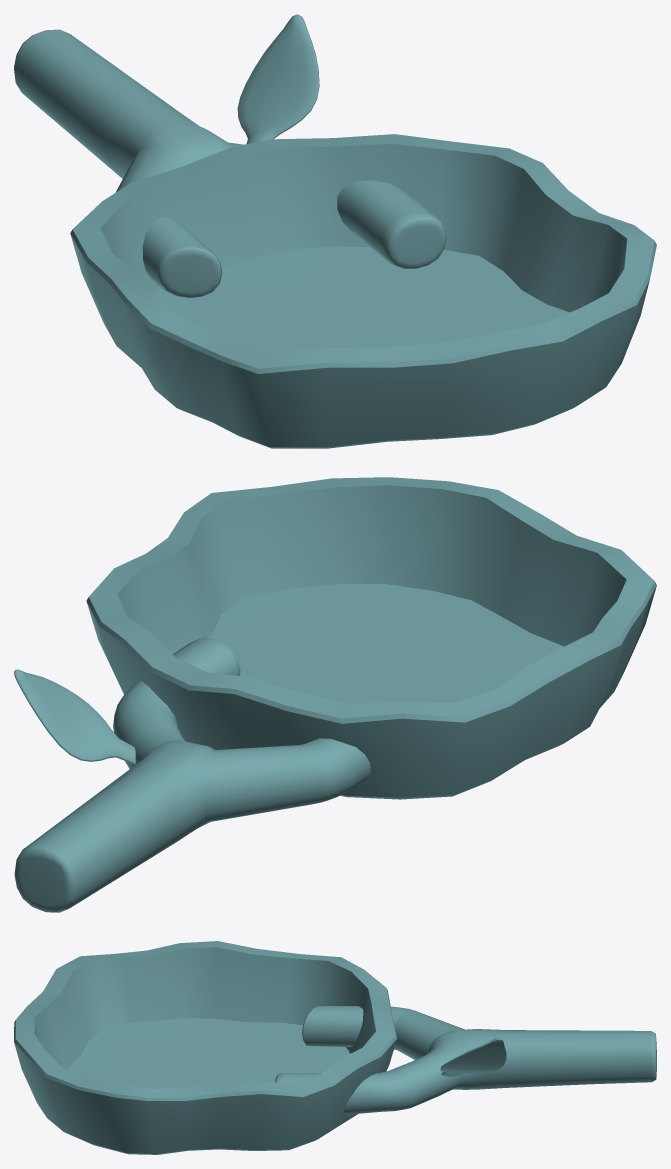
The model's file is SM_FRYING_PAN_ROCK.fbx.
3 renders of one model, top to bottom at view 1: azimuth 30°, elevation 25°; view 2: azimuth 150°, elevation 25°; view 3: azimuth 270°, elevation 25°, orthographic. The views are drawn at different scales.
Visible parts, largest first — view 1: SM_FRYING_PAN_ROCK; view 2: SM_FRYING_PAN_ROCK; view 3: SM_FRYING_PAN_ROCK.
Part boxes in pixels (box(x1,y1,x2,y2)): SM_FRYING_PAN_ROCK: box(14, 14, 656, 448); SM_FRYING_PAN_ROCK: box(14, 477, 656, 912); SM_FRYING_PAN_ROCK: box(14, 941, 656, 1154).
Bounding box in the file's own units: 43.03 × 12.73 × 74.67.
